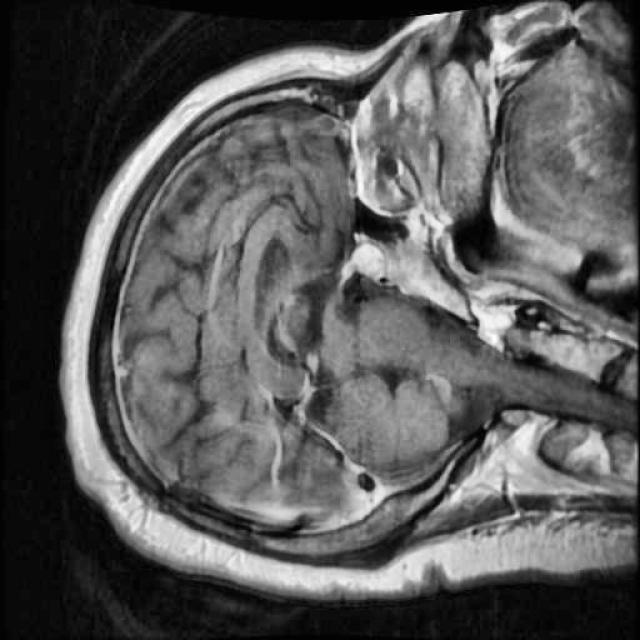Tumor: (334, 233, 401, 300)
